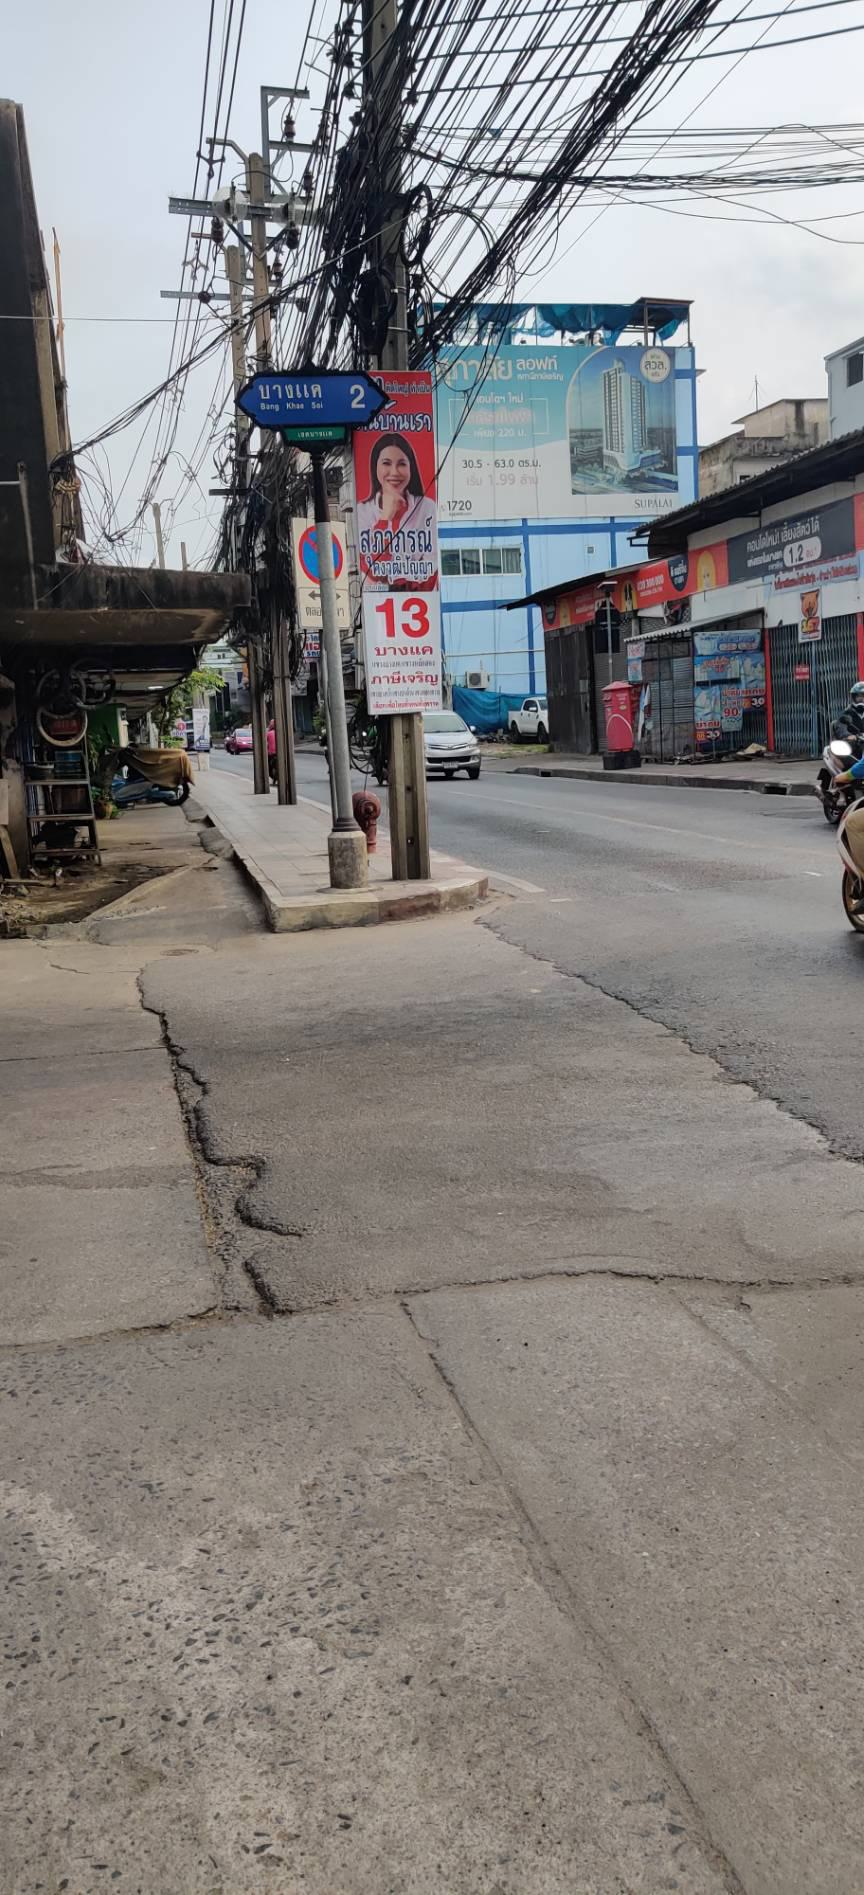Banner: (340, 386, 456, 709)
